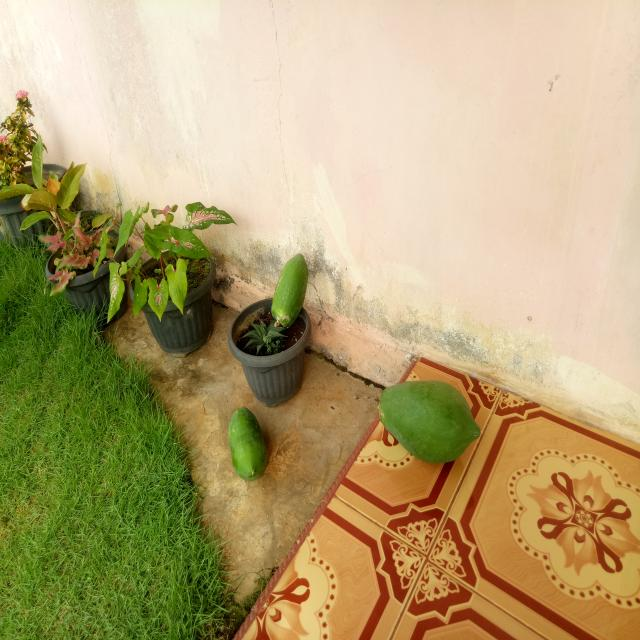Pepaya unrippen: (366, 371, 492, 467), (213, 400, 272, 489), (260, 246, 313, 334)
